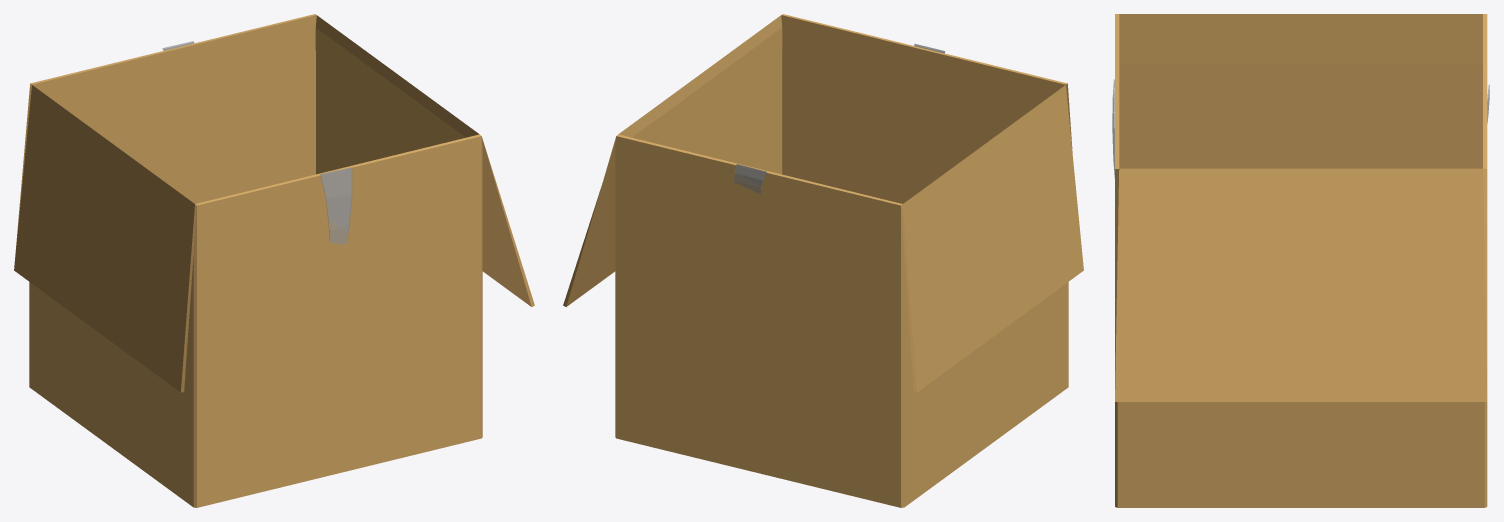
Rendered from Carton_jolie_et_petit_et_ouvert.fbx.
3 views of the same model, side by side, from view 1: azimuth 30°, elevation 25°; view 2: azimuth 150°, elevation 25°; view 3: azimuth 270°, elevation 25° (orthographic). The views are drawn at different scales.
Parts seen in each view (by area): view 1: Carton, Scotch; view 2: Carton, Scotch; view 3: Carton.
Boxes of the visible parts, x1,y1,x2,y2 form: Carton: (14,14,534,507); Scotch: (162,41,352,244); Carton: (563,14,1083,507); Scotch: (734,44,945,193); Carton: (1115,14,1487,507).
Bounding box in the file's own units: 245 × 201 × 203.
